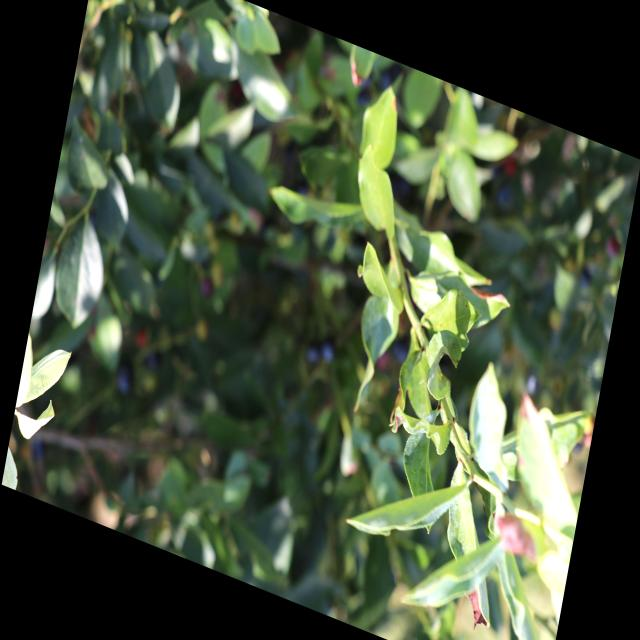blueberry: (302, 339, 322, 366), (318, 336, 336, 364)
